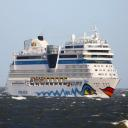cruises: (6, 22, 123, 101)
